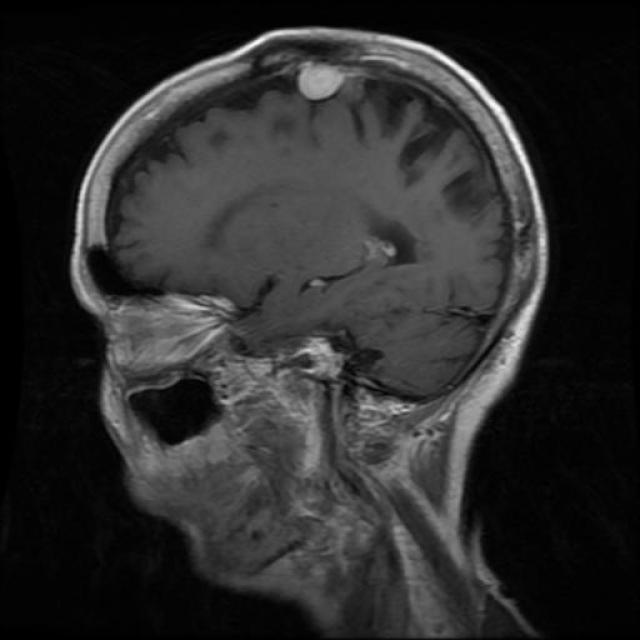meningioma: (299, 65, 345, 100)
